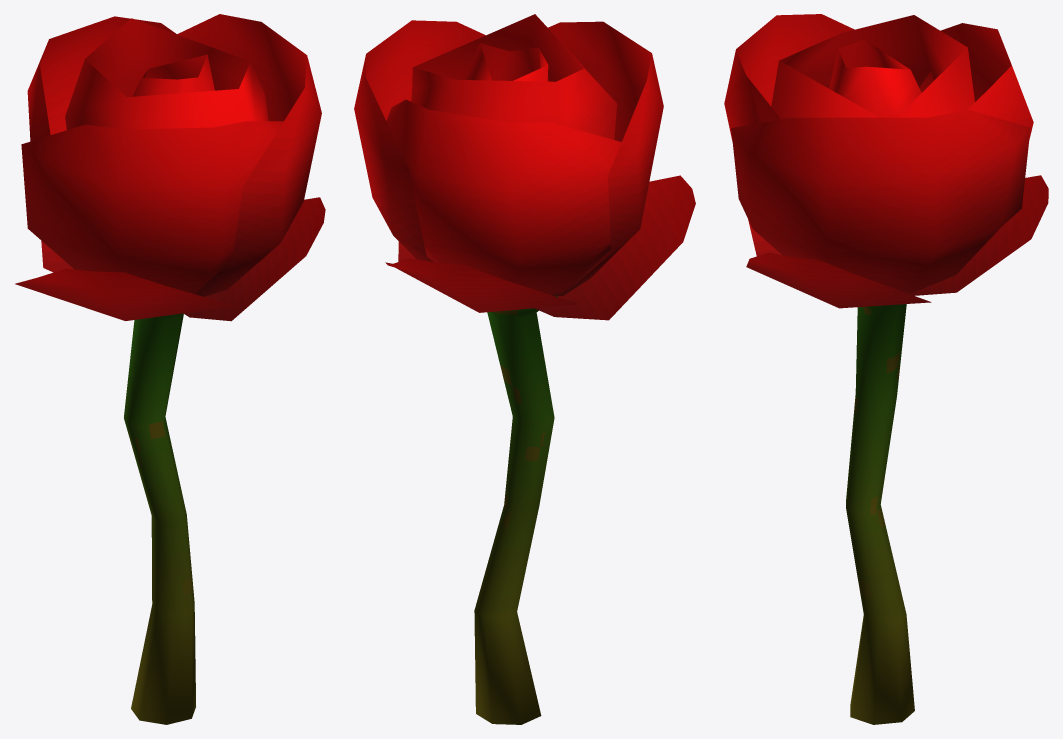
The model's file is Rose.fbx.
The picture shows the model from 3 angles, left to right: view 1: azimuth 30°, elevation 25°; view 2: azimuth 150°, elevation 25°; view 3: azimuth 270°, elevation 25°; orthographic projection.
Parts seen in each view (by area): view 1: Rose flower, Stem; view 2: Rose flower, Stem; view 3: Rose flower, Stem.
Boxes of the visible parts, left/top/right/bottom form: Rose flower: left=15, top=14, right=325, bottom=321; Stem: left=124, top=313, right=195, bottom=724; Rose flower: left=354, top=14, right=695, bottom=320; Stem: left=474, top=295, right=558, bottom=724; Rose flower: left=724, top=14, right=1048, bottom=308; Stem: left=846, top=293, right=914, bottom=724.
Size of the model in its own units: 205 by 460 by 202.
